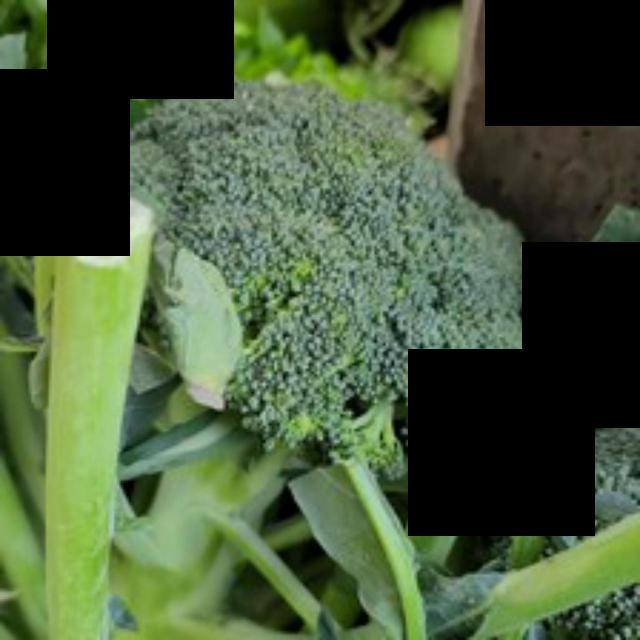broccoli: (99, 44, 537, 490)
